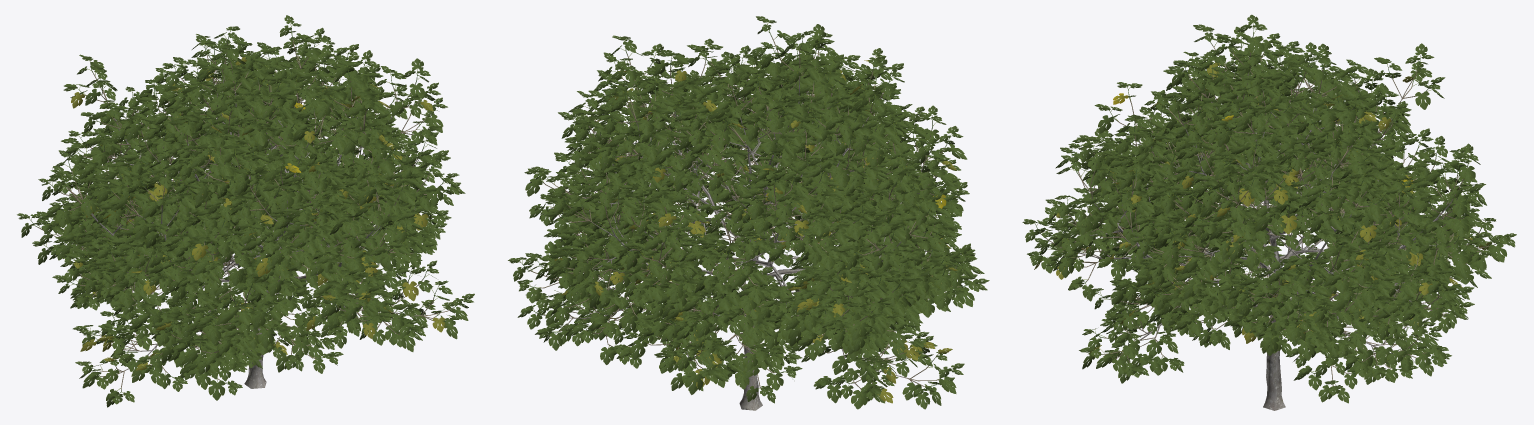
Rendered from Ficus carica HD_Standard no fruit mat 75_LOD2.fbx.
3 views of the same model, side by side, from view 1: azimuth 30°, elevation 25°; view 2: azimuth 150°, elevation 25°; view 3: azimuth 270°, elevation 25° (orthographic). The views are drawn at different scales.
Visible parts, largest first — view 1: Ficus_carica_HD; view 2: Ficus_carica_HD; view 3: Ficus_carica_HD.
Part boxes in pixels (x1=…): Ficus_carica_HD: x1=17, y1=15, x2=474, y2=407; Ficus_carica_HD: x1=508, y1=16, x2=989, y2=410; Ficus_carica_HD: x1=1022, y1=14, x2=1516, y2=410.
Size of the model in its own units: 4.92 by 4.19 by 5.19.
Materials: 10 (10 with a texture image).
